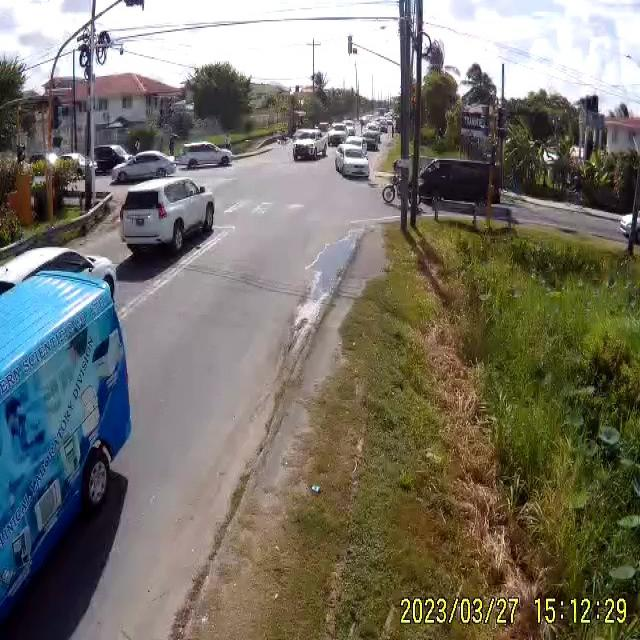car: (0, 247, 135, 636), (120, 176, 216, 254), (413, 159, 500, 227), (111, 151, 177, 185), (176, 142, 231, 172), (333, 144, 370, 180), (94, 147, 136, 173), (292, 131, 326, 163), (362, 130, 381, 154), (328, 126, 348, 146)
